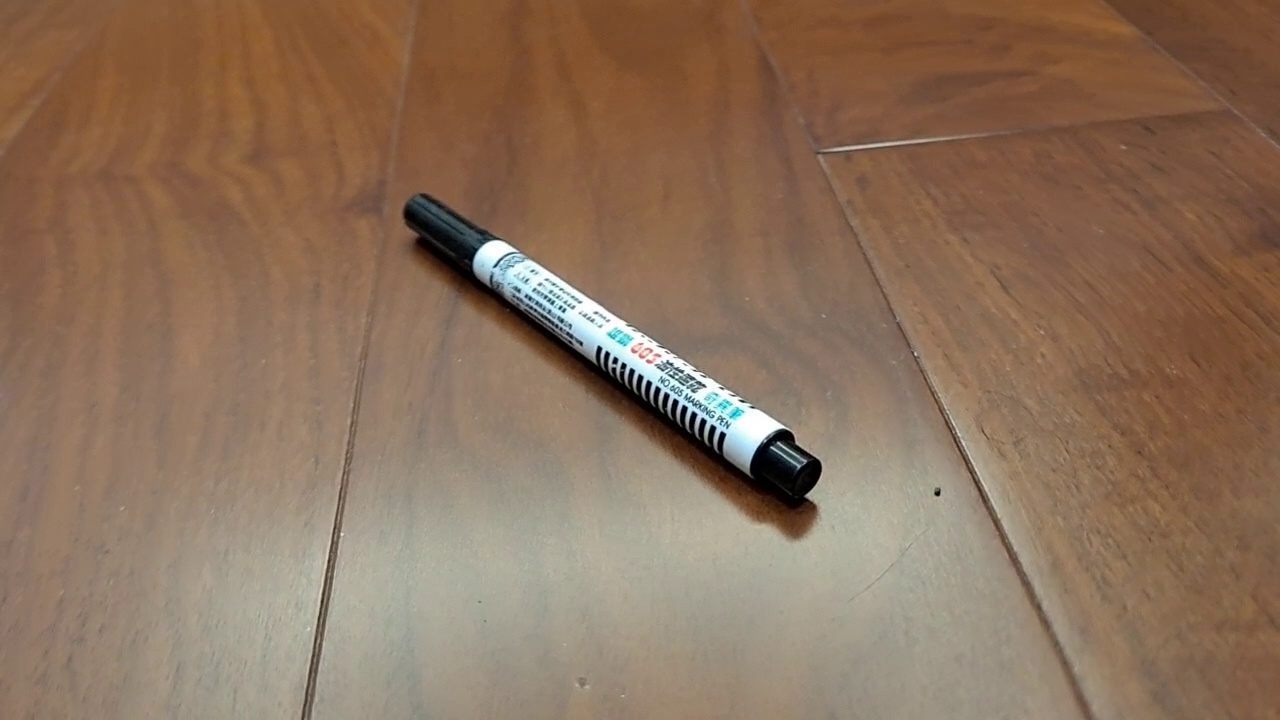pen: (402, 192, 823, 501)
